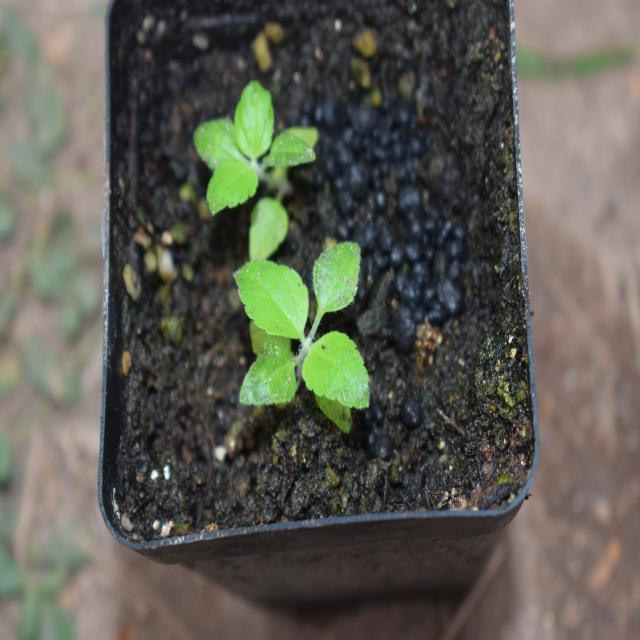billygoat_weed: (219, 236, 378, 416), (188, 77, 313, 235)
